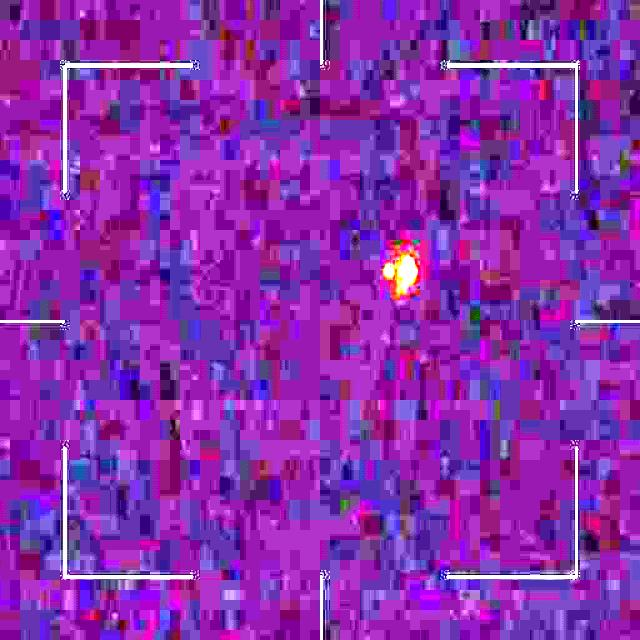bird: (384, 251, 420, 304)
